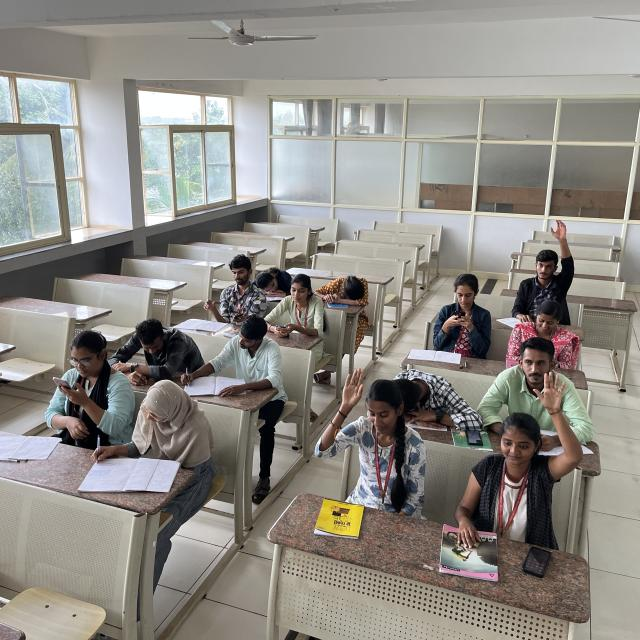Hand Rising: (474, 387, 596, 530), (317, 366, 432, 493), (488, 218, 594, 303)
Sleeping: (382, 364, 486, 431), (318, 266, 378, 312), (259, 259, 298, 297)
Using Phone: (37, 330, 132, 433), (424, 268, 507, 346), (268, 277, 323, 339), (220, 261, 260, 322)
Writing: (92, 380, 196, 483), (180, 326, 281, 393)
